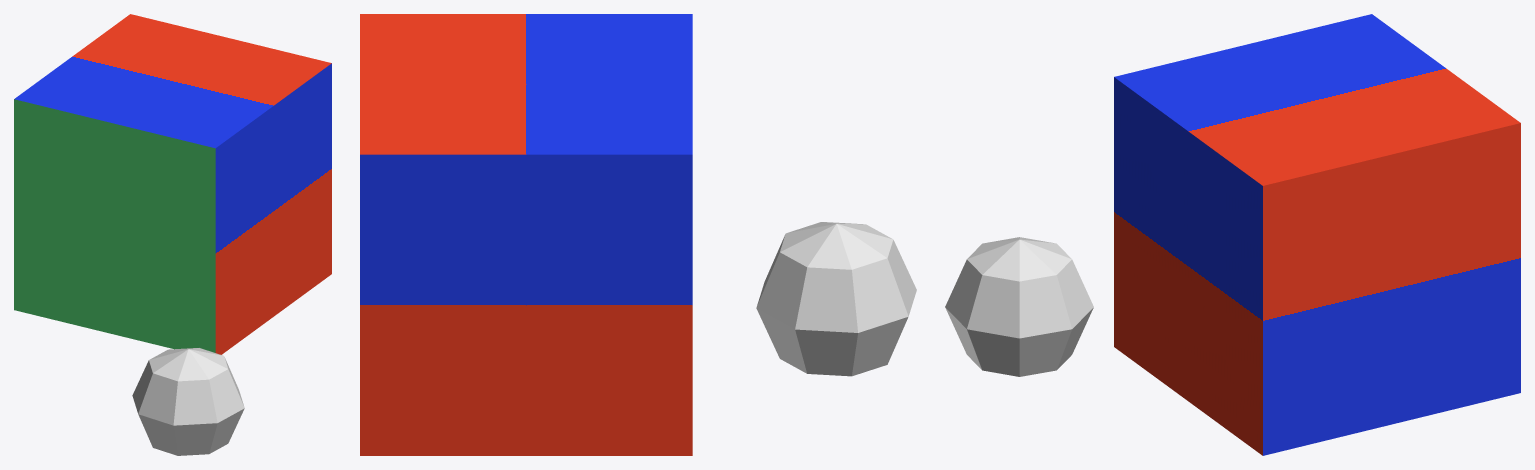
Rendered from crate_unreal_cm.fbx.
3 views of the same model, side by side, from view 1: azimuth 30°, elevation 25°; view 2: azimuth 150°, elevation 25°; view 3: azimuth 270°, elevation 25° (orthographic). The views are drawn at different scales.
Parts seen in each view (by area): view 1: Crate, Knob; view 2: Crate, Knob; view 3: Crate, Knob.
Part boxes in pixels (x1,y1,x2,y2): Crate: (14,14,331,354); Knob: (132,348,244,455); Crate: (360,14,692,455); Knob: (756,222,916,376); Crate: (1114,14,1520,455); Knob: (945,237,1093,376).
Size of the model in its own units: 287 by 387 by 250.
